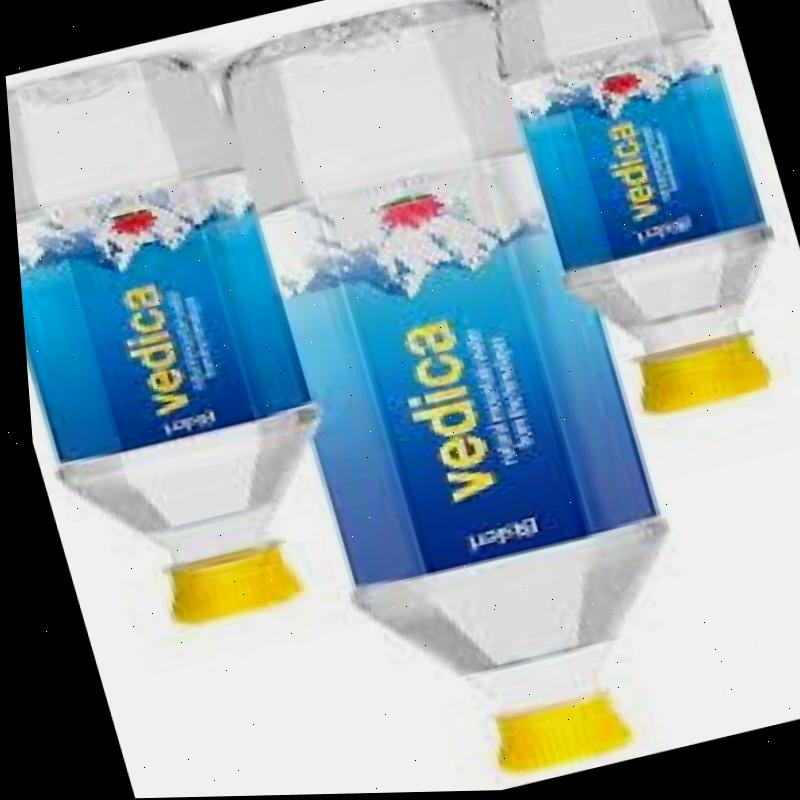botella: (189, 0, 722, 797), (3, 38, 365, 650), (474, 0, 800, 433)
